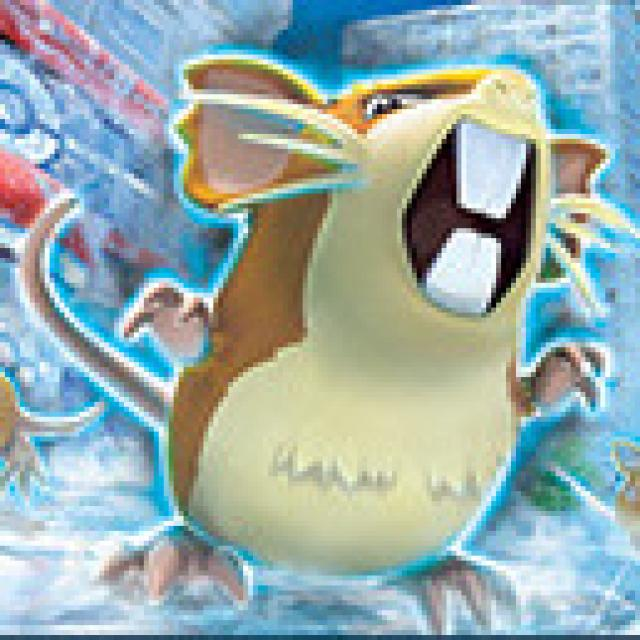Raticate: (138, 52, 583, 628)
